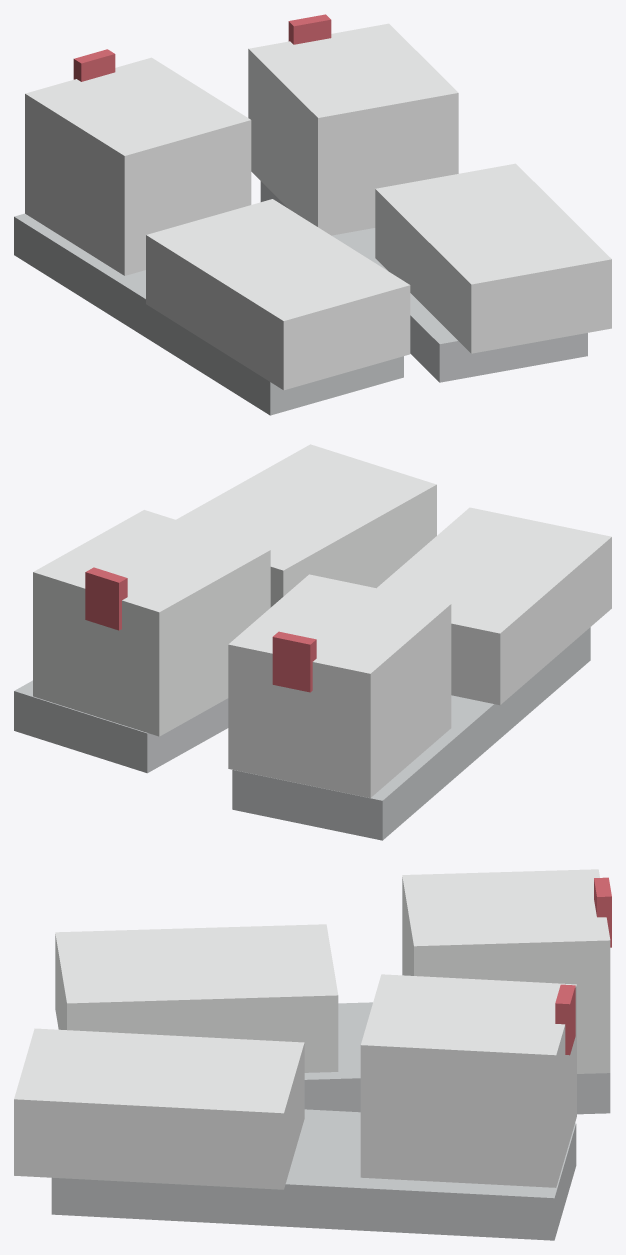
File: shoes.gltf
3 views of the same model, one above another, from view 1: azimuth 30°, elevation 25°; view 2: azimuth 150°, elevation 25°; view 3: azimuth 270°, elevation 25° (orthographic). The views are drawn at different scales.
Visible parts, largest first — view 1: heelL, toeL, heelR, toeR, soleL, soleR, tabR, tabL; view 2: heelL, heelR, toeL, toeR, soleL, soleR, tabL, tabR; view 3: heelR, toeR, toeL, soleR, heelL, soleL, tabR, tabL.
Part boxes in pixels (left/top/right/bottom): heelL: left=25, top=57, right=251, bottom=275; toeL: left=146, top=199, right=410, bottom=390; heelR: left=248, top=23, right=458, bottom=235; toeR: left=375, top=163, right=611, bottom=353; soleL: left=14, top=213, right=403, bottom=415; soleR: left=260, top=181, right=587, bottom=382; tabR: left=288, top=14, right=331, bottom=44; tabL: left=73, top=49, right=115, bottom=81; heelL: left=228, top=574, right=451, bottom=797; heelR: left=33, top=510, right=270, bottom=736; toeL: left=377, top=507, right=611, bottom=705; toeR: left=176, top=444, right=436, bottom=607; soleL: left=232, top=627, right=590, bottom=840; soleR: left=14, top=680, right=228, bottom=773; tabL: left=272, top=631, right=316, bottom=692; tabR: left=85, top=567, right=127, bottom=630; heelR: left=360, top=974, right=576, bottom=1187; toeR: left=14, top=1028, right=304, bottom=1189; toeL: left=55, top=924, right=338, bottom=1072; soleR: left=51, top=1109, right=576, bottom=1240; heelL: left=402, top=869, right=610, bottom=1073; soleL: left=304, top=1002, right=610, bottom=1114; tabR: left=555, top=984, right=575, bottom=1055; tabL: left=594, top=877, right=611, bottom=947.
Size of the model in its own units: 0.016 by 0.00719 by 0.0199.
